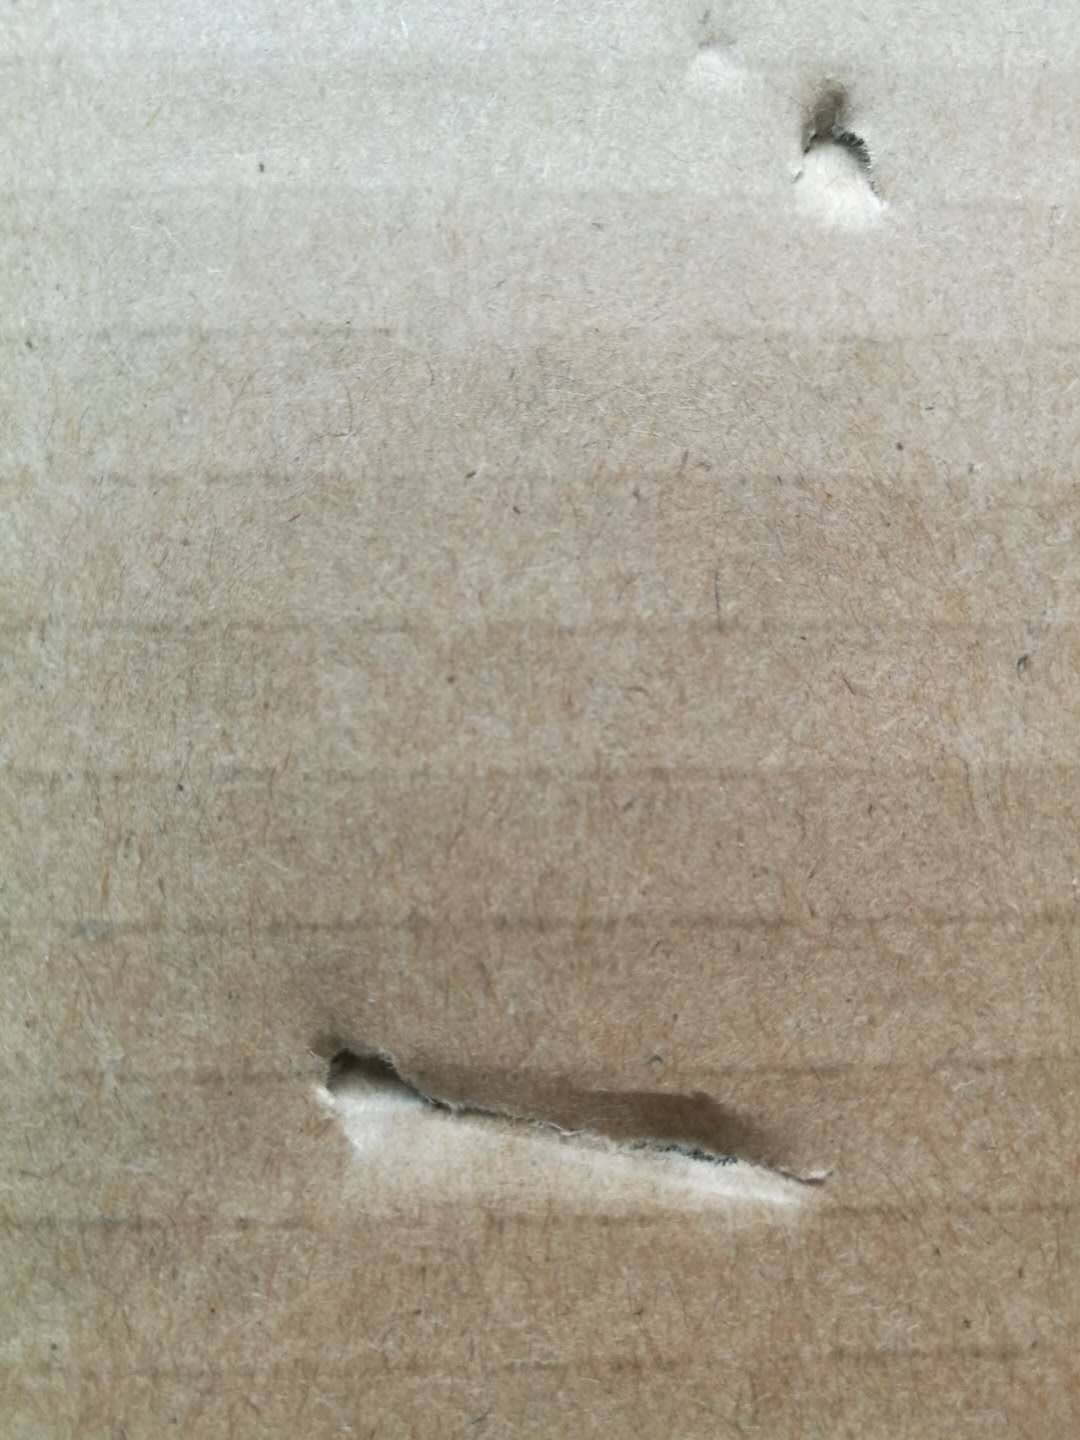defect: (275, 979, 872, 1268), (668, 15, 931, 262)
